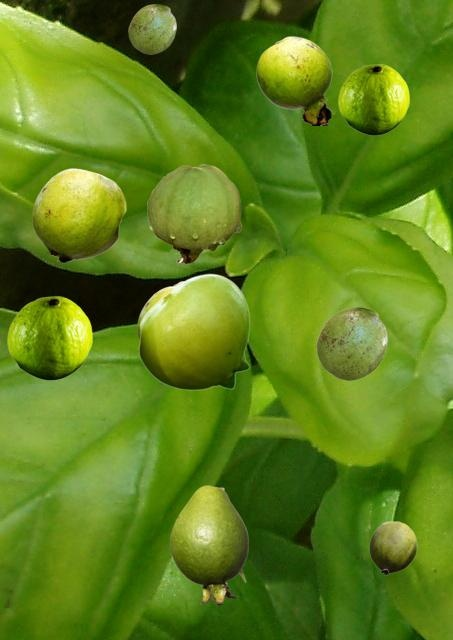guava: (138, 273, 249, 389), (147, 164, 240, 263), (170, 485, 247, 604), (32, 168, 125, 262), (7, 296, 91, 379), (256, 36, 331, 124), (316, 307, 386, 379), (338, 64, 408, 134), (369, 521, 416, 574), (128, 4, 175, 53), (137, 286, 173, 338)
